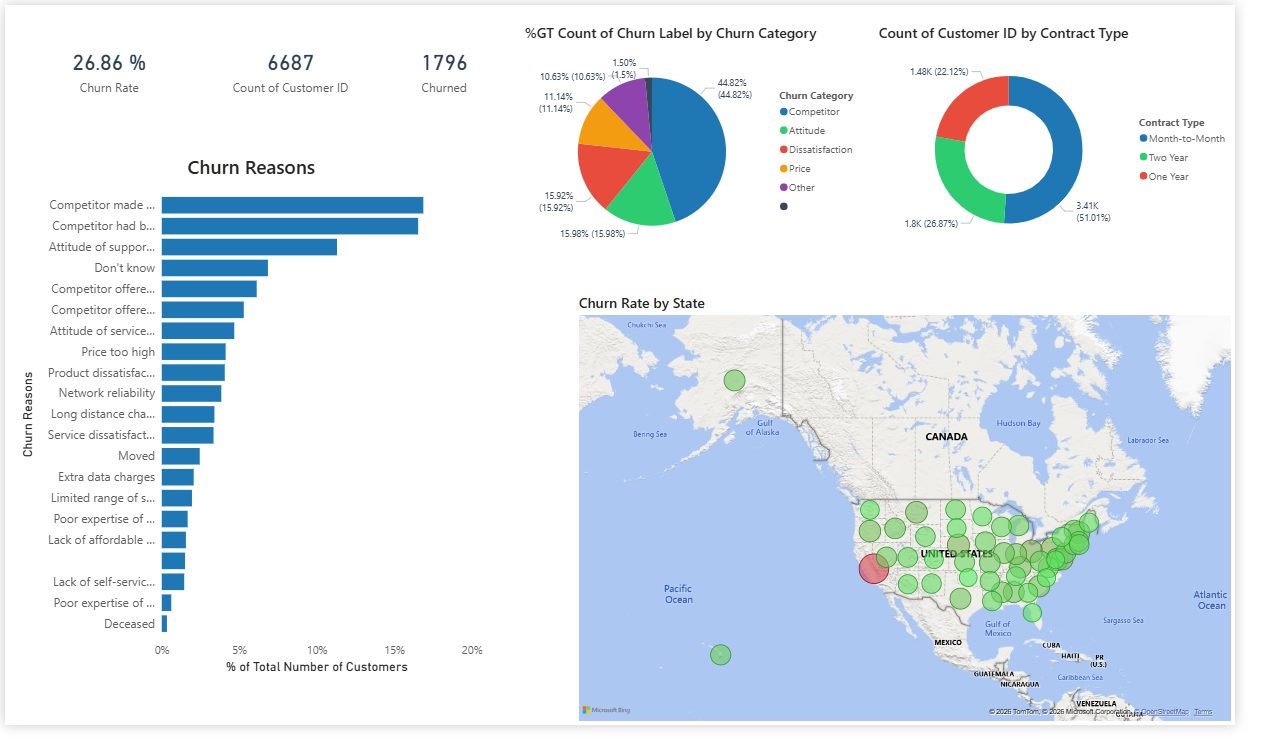

Layout of this report page (visuals, bound fields, positions):
{"tool":"powerbi","page":{"name":"Customer Churn Overview","canvas":[1640,960],"ordinal":0},"visuals":[{"type":"card","fields":{"Values":["Databel - Data.Churn Rate"]},"box":[33.3,23.5,211.7,123.3],"z":0},{"type":"card","fields":{"Values":["Count(Databel - Data.Customer ID)"]},"box":[275,23.5,211.7,123.3],"z":1000},{"type":"card","fields":{"Values":["Sum(Databel - Data.Churned)"]},"box":[480,23.5,211.7,123.3],"z":2000},{"type":"clusteredBarChart","title":"Churn Reasons","fields":{"Category":["Databel - Data.Churn Reason"],"Y":["CountNonNull(Databel - Data.Number of Customers in Group)"]},"box":[15,198.3,626.7,698.3],"z":3000},{"type":"donutChart","fields":{"Y":["Count(Databel - Data.Customer ID)"],"Category":["Databel - Data.Contract Type"]},"box":[1159.4,23.5,481,314.8],"z":4000},{"type":"pieChart","fields":{"Category":["Databel - Data.Churn Category"],"Y":["CountNonNull(Databel - Data.Churn Label)"]},"box":[688,23.5,464,320],"z":5000},{"type":"map","fields":{"Category":["Databel - Data.State"],"Size":["Databel - Data.Churn Rate"]},"box":[760,384,880,576],"z":6000}]}

Visuals, with their boxes in screenshot pixels (x1, y1, x2, y2), scaled from the page's 1640x960 canvas onto the 1263x752 screenshot:
card - Databel - Data.Churn Rate: pyautogui.locateOnScreen(26, 18, 189, 115)
card - Count(Databel - Data.Customer ID): pyautogui.locateOnScreen(212, 18, 375, 115)
card - Sum(Databel - Data.Churned): pyautogui.locateOnScreen(370, 18, 533, 115)
"Churn Reasons" clusteredBarChart: pyautogui.locateOnScreen(12, 155, 494, 702)
donutChart - Count(Databel - Data.Customer ID) x Databel - Data.Contract Type: pyautogui.locateOnScreen(893, 18, 1262, 265)
pieChart - Databel - Data.Churn Category x CountNonNull(Databel - Data.Churn Label): pyautogui.locateOnScreen(530, 18, 887, 269)
map - Databel - Data.State x Databel - Data.Churn Rate: pyautogui.locateOnScreen(585, 301, 1262, 751)
